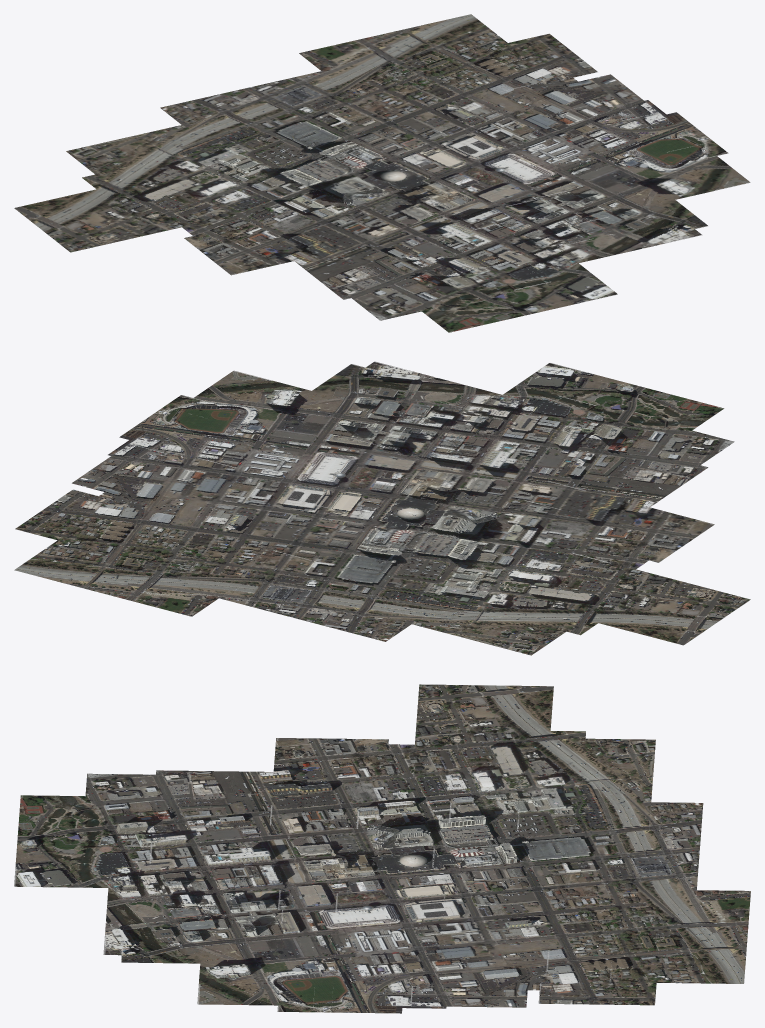
Rendered from RenoFlat.fbx.
The picture shows the model from 3 angles, top to bottom: view 1: azimuth 30°, elevation 25°; view 2: azimuth 150°, elevation 25°; view 3: azimuth 270°, elevation 25°; orthographic projection. The views are drawn at different scales.
Parts seen in each view (by area): view 1: Google_Earth_Snapshot16, Google_Earth_Snapshot10, Google_Earth_Snapshot17, Google_Earth_Snapshot3, Google_Earth_Snapshot12, Google_Earth_Snapshot18, Google_Earth_Snapshot15, Google_Earth_Snapshot27, Google_Earth_Snapshot32, Google_Earth_Snapshot26, Google_Earth_Snapshot23, Google_Earth_Snapshot1 (+22 smaller); view 2: Google_Earth_Snapshot15, Google_Earth_Snapshot3, Google_Earth_Snapshot19, Google_Earth_Snapshot12, Google_Earth_Snapshot16, Google_Earth_Snapshot8, Google_Earth_Snapshot13, Google_Earth_Snapshot32, Google_Earth_Snapshot25, Google_Earth_Snapshot1, Google_Earth_Snapshot26, Google_Earth_Snapshot28 (+21 smaller); view 3: Google_Earth_Snapshot16, Google_Earth_Snapshot23, Google_Earth_Snapshot33, Google_Earth_Snapshot3, Google_Earth_Snapshot25, Google_Earth_Snapshot17, Google_Earth_Snapshot, Google_Earth_Snapshot32, Google_Earth_Snapshot28, Google_Earth_Snapshot31, Google_Earth_Snapshot13, Google_Earth_Snapshot12 (+21 smaller).
Boxes of the visible parts, x1,y1,x2,y2 form: Google_Earth_Snapshot16: (299,14,527,97); Google_Earth_Snapshot10: (284,179,504,260); Google_Earth_Snapshot17: (312,41,537,122); Google_Earth_Snapshot3: (82,138,302,219); Google_Earth_Snapshot12: (504,112,728,190); Google_Earth_Snapshot18: (438,74,658,151); Google_Earth_Snapshot15: (324,252,550,320); Google_Earth_Snapshot27: (477,100,702,182); Google_Earth_Snapshot32: (14,188,198,252); Google_Earth_Snapshot26: (513,191,702,273); Google_Earth_Snapshot23: (287,216,515,299); Google_Earth_Snapshot1: (274,104,480,169); Google_Earth_Snapshot15: (494,395,734,487); Google_Earth_Snapshot3: (403,544,645,635); Google_Earth_Snapshot19: (15,489,250,575); Google_Earth_Snapshot12: (119,395,351,478); Google_Earth_Snapshot16: (14,540,258,616); Google_Earth_Snapshot8: (297,438,518,518); Google_Earth_Snapshot13: (299,364,517,443); Google_Earth_Snapshot32: (512,553,750,645); Google_Earth_Snapshot25: (490,363,724,450); Google_Earth_Snapshot1: (235,498,455,579); Google_Earth_Snapshot26: (308,361,547,445); Google_Earth_Snapshot28: (168,370,410,458); Google_Earth_Snapshot16: (609,889,750,983); Google_Earth_Snapshot23: (149,770,290,865); Google_Earth_Snapshot33: (517,738,655,830); Google_Earth_Snapshot3: (449,729,585,823); Google_Earth_Snapshot25: (14,795,143,888); Google_Earth_Snapshot17: (546,879,678,973); Google_Earth_Snapshot: (335,821,476,914); Google_Earth_Snapshot32: (412,684,553,779); Google_Earth_Snapshot28: (197,912,338,1006); Google_Earth_Snapshot31: (565,802,703,895); Google_Earth_Snapshot13: (121,875,233,963); Google_Earth_Snapshot12: (277,918,408,1013).
Size of the model in its own units: 61561 by 66.71 by 58272.
